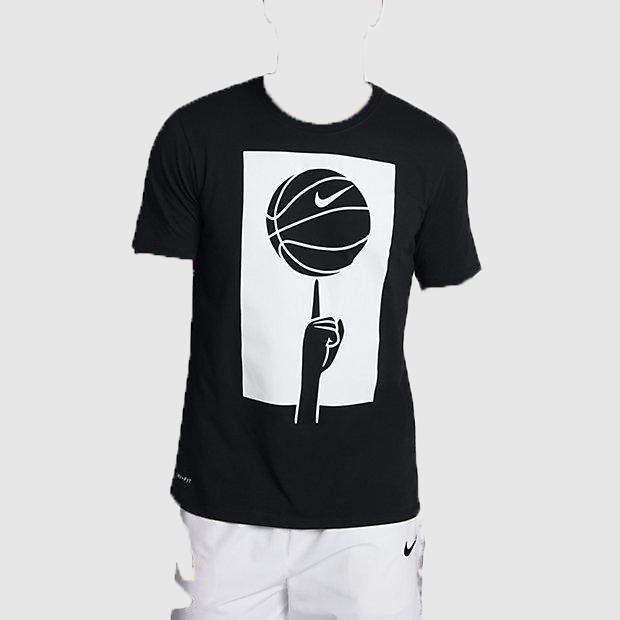teeshirt: (115, 72, 527, 533)
